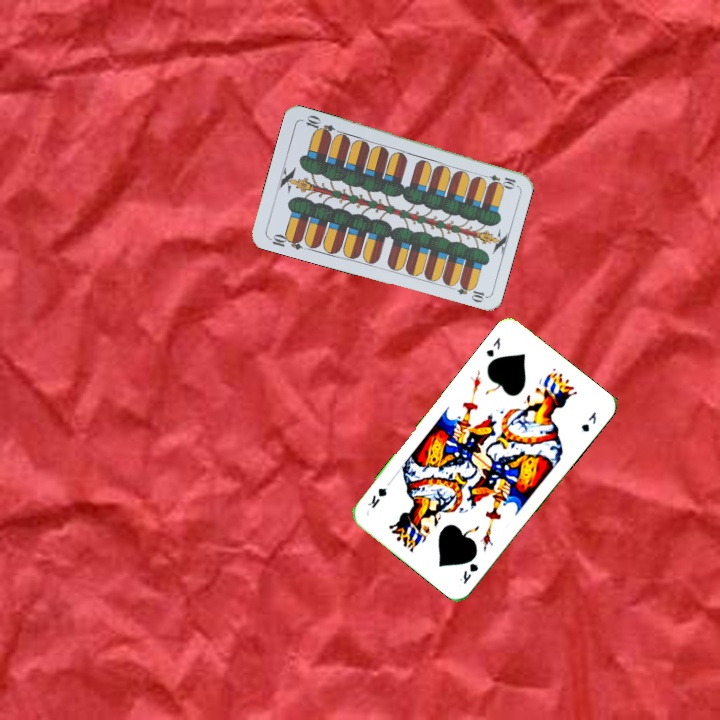E10: (265, 230, 305, 252), (478, 170, 518, 190)
GK: (455, 559, 481, 587), (482, 333, 503, 360)
